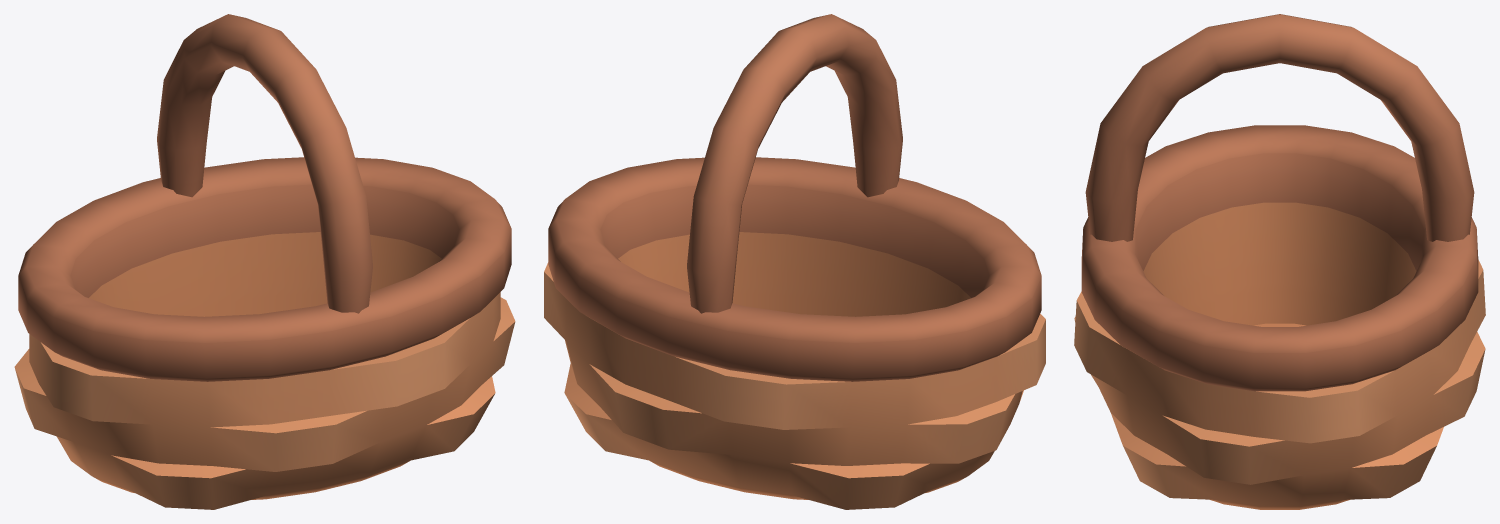
File: basket-CSWB-nI6.glb
3 views of the same model, side by side, from view 1: azimuth 30°, elevation 25°; view 2: azimuth 150°, elevation 25°; view 3: azimuth 270°, elevation 25° (orthographic).
Visible parts, largest first — view 1: picnic_basket_round; view 2: picnic_basket_round; view 3: picnic_basket_round.
Boxes of the visible parts, x1,y1,x2,y2 form: picnic_basket_round: (14, 14, 515, 509); picnic_basket_round: (544, 14, 1045, 509); picnic_basket_round: (1074, 14, 1485, 509).
Size of the model in its own units: 1.21 by 1.03 by 0.9401.
Materials: 1 (1 with a texture image).
